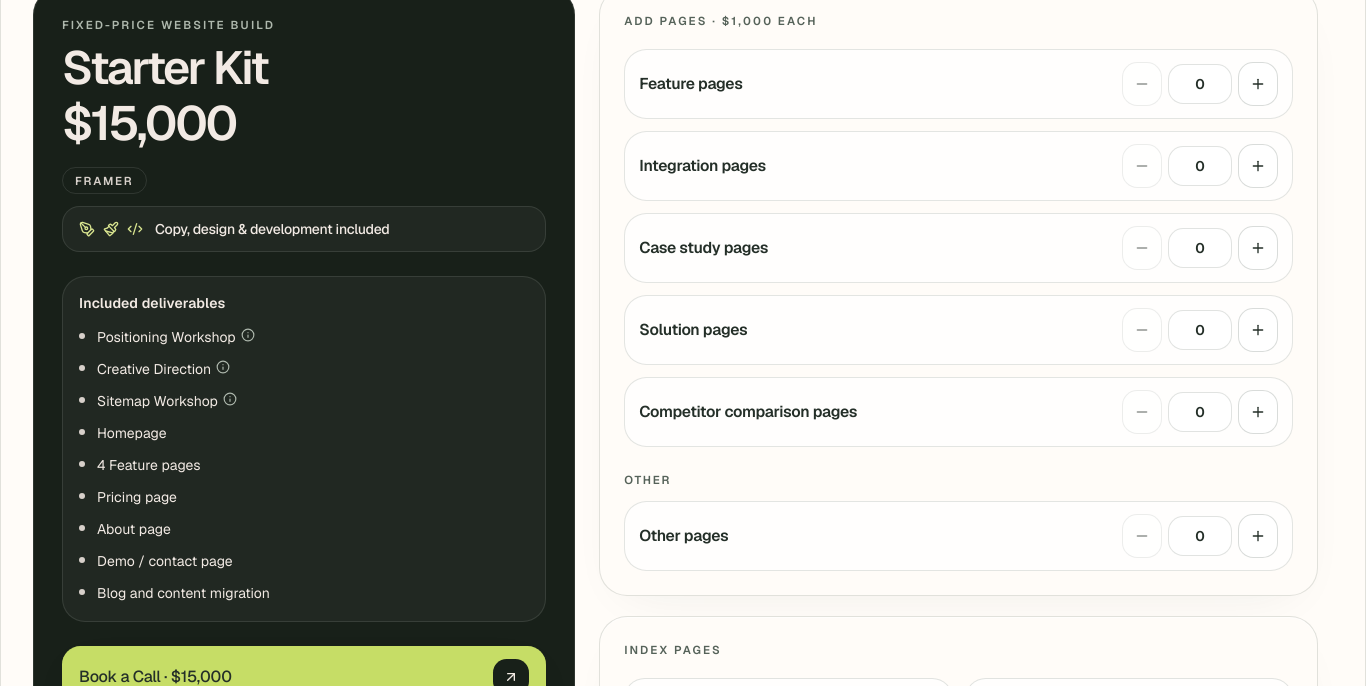
Scenario: WebsiteEstimator › submits the quote successfully and shows a toast
Click the button named "Increase Feature pages". click: {"x": 1258, "y": 84}
box: [1238,62,1278,106]
(page scrolled)
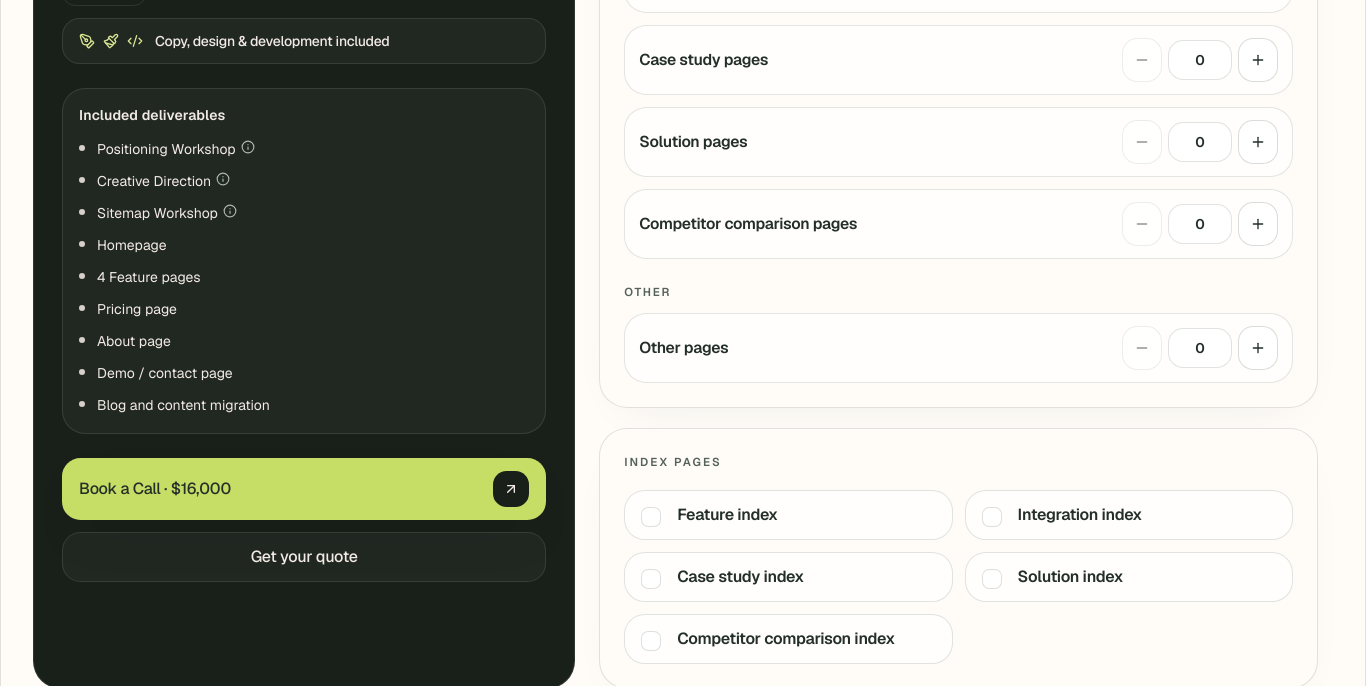
Click the button "Get your quote". click: {"x": 304, "y": 557}
box: [62,532,546,582]
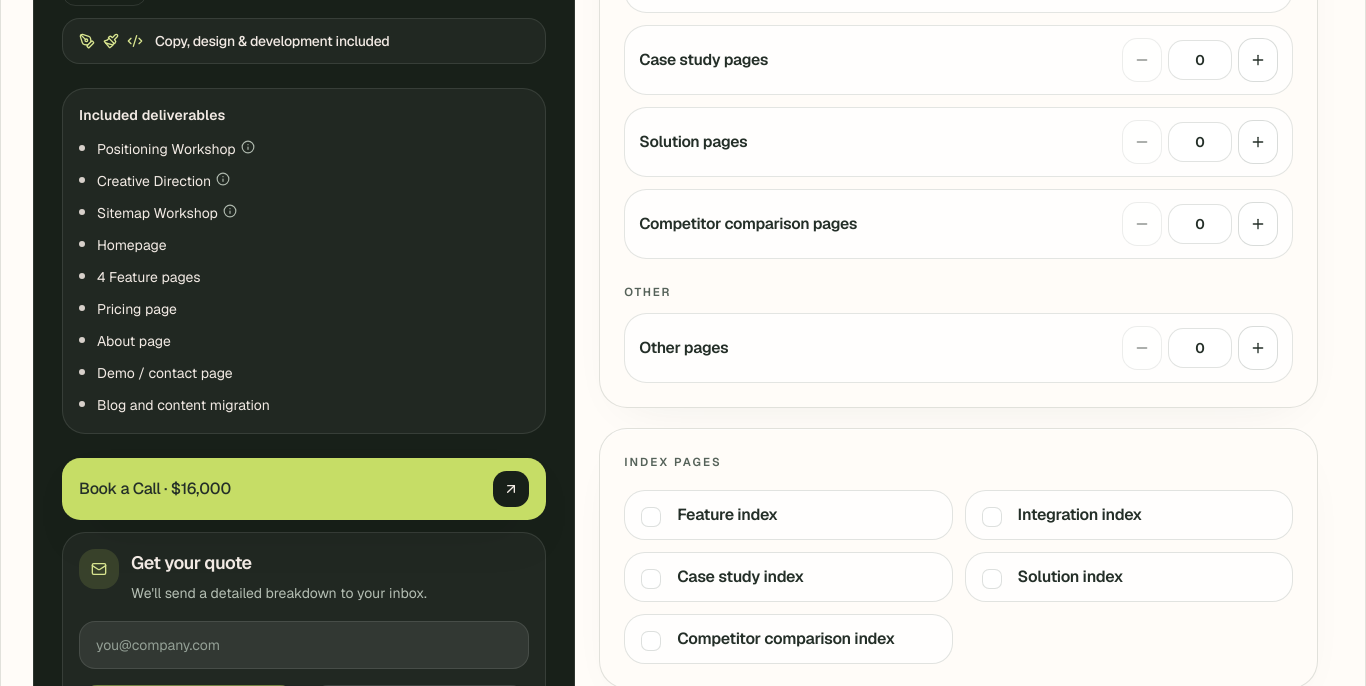
Type "hello@goodspeed.studio" into the field named "Email address". click: {"x": 304, "y": 645}
box: [79,621,529,669]
(page scrolled)
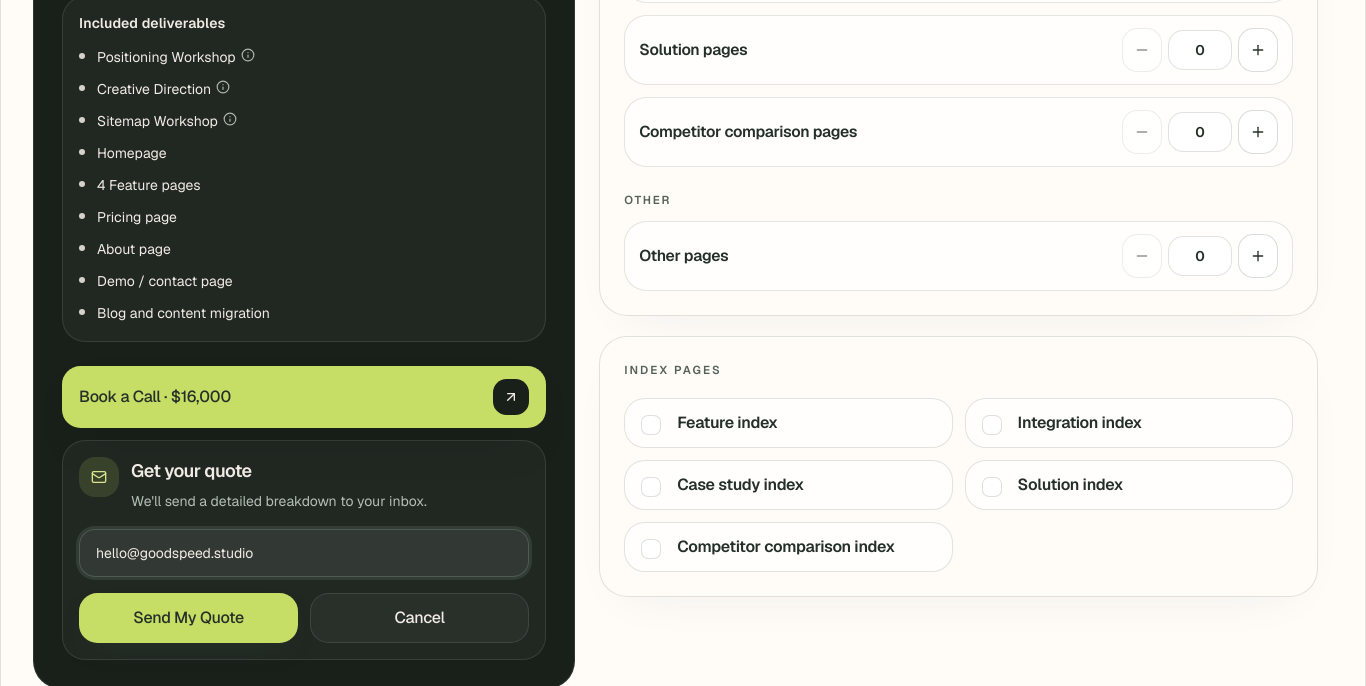
Click the button "Send My Quote". click: {"x": 189, "y": 618}
box: [79,593,298,643]
(page scrolled)
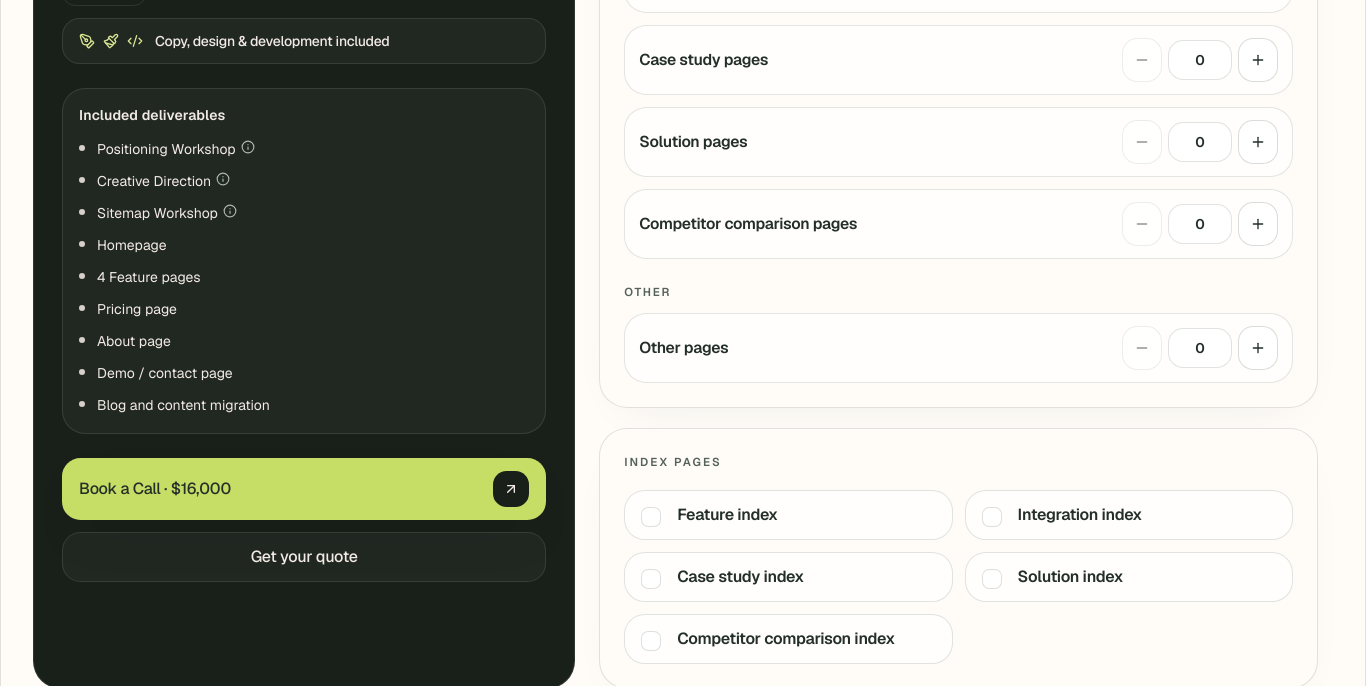
Expected: the form with test id "quote-panel" is gone
